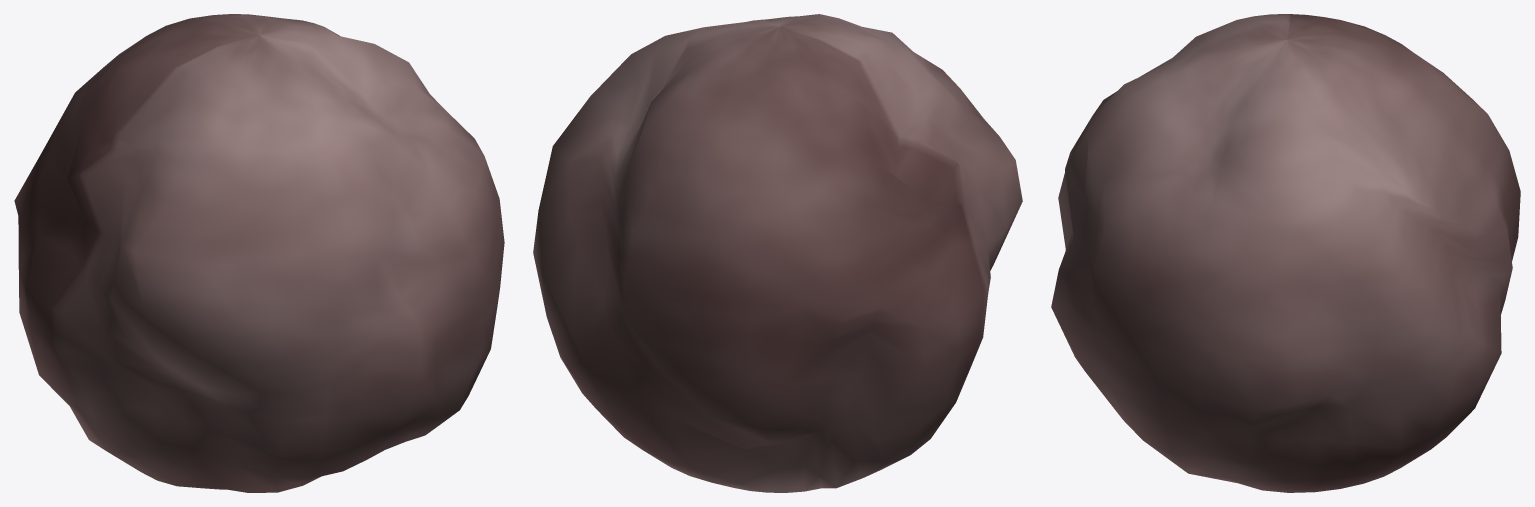
The model's file is metrorite.obj.
The picture shows the model from 3 angles, left to right: view 1: azimuth 30°, elevation 25°; view 2: azimuth 150°, elevation 25°; view 3: azimuth 270°, elevation 25°; orthographic projection. The views are drawn at different scales.
Visible parts, largest first — view 1: 球; view 2: 球; view 3: 球.
Boxes of the visible parts, box(x1,y1,x2,y2) form: 球: box(14, 14, 504, 492); 球: box(533, 14, 1022, 492); 球: box(1051, 14, 1520, 492).
Bounding box in the file's own units: 1.97 × 1.95 × 1.94.
Materials: 1 (1 with a texture image).
